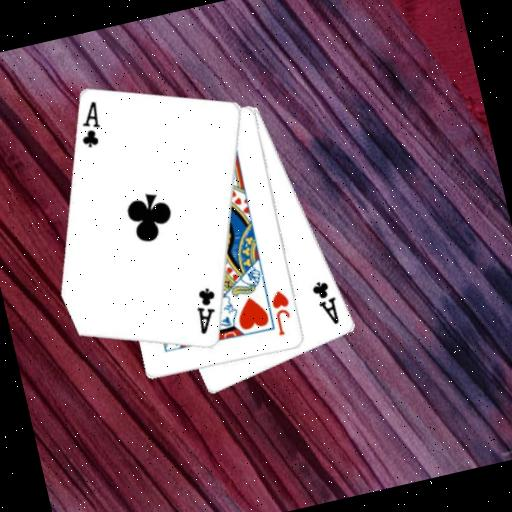AC: (188, 283, 225, 337), (71, 98, 108, 152), (308, 276, 344, 330)
JH: (267, 286, 299, 338)
